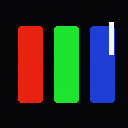4 line_v: (109, 22, 113, 54)
